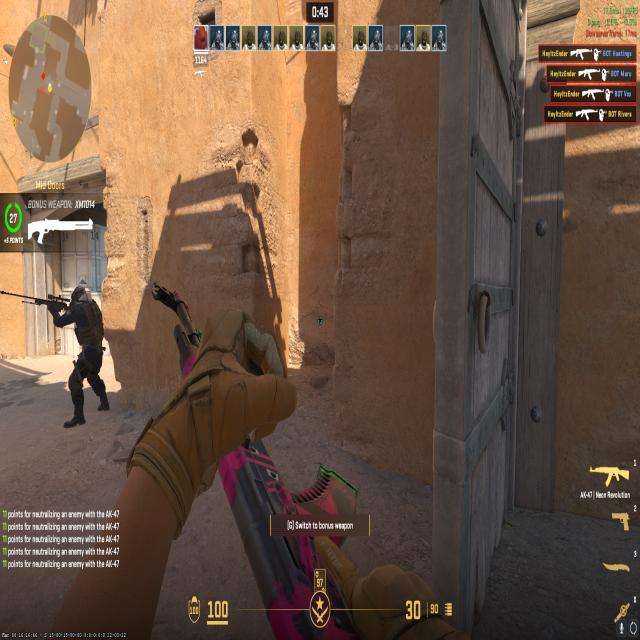ct: (42, 269, 111, 442)
